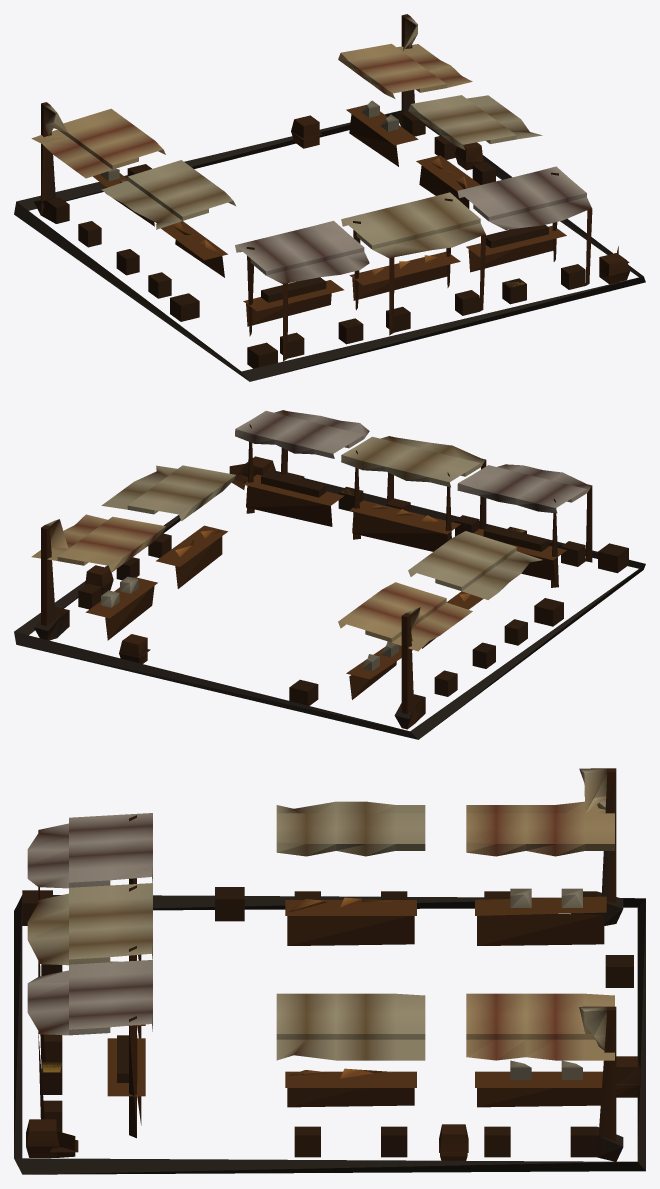
File: MarketPaved.glb
The picture shows the model from 3 angles, top to bottom: view 1: azimuth 30°, elevation 25°; view 2: azimuth 150°, elevation 25°; view 3: azimuth 270°, elevation 25°; orthographic projection. The views are drawn at different scales.
Parts seen in each view (by area): view 1: Market_P0_LOD1; view 2: Market_P0_LOD1; view 3: Market_P0_LOD1.
Part boxes in pixels (x1,y1,x2,y2): Market_P0_LOD1: (14, 14, 645, 381); Market_P0_LOD1: (14, 410, 645, 739); Market_P0_LOD1: (14, 768, 645, 1174).
Bounding box in the file's own units: 12 × 3.18 × 12.
